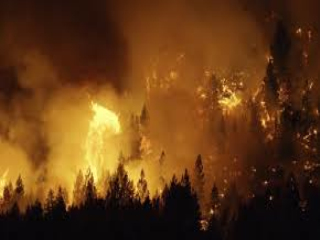fire: (75, 96, 126, 186), (209, 77, 248, 114)
